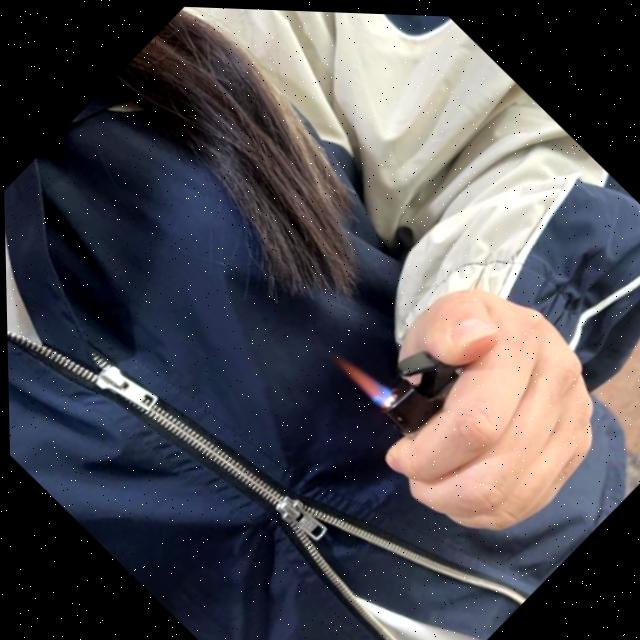Fire: (324, 340, 398, 413)
